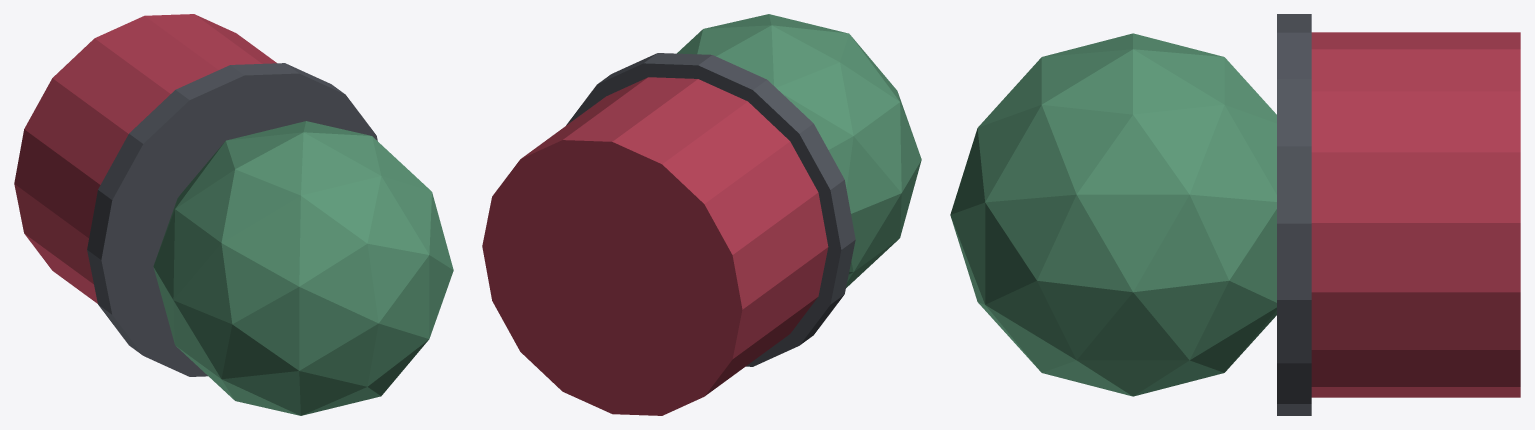
Rendered from planter_v01.glb.
3 renders of one model, left to right at view 1: azimuth 30°, elevation 25°; view 2: azimuth 150°, elevation 25°; view 3: azimuth 270°, elevation 25°, orthographic. The views are drawn at different scales.
Visible parts, largest first — view 1: sphere_2, cylinder_1, cylinder_0; view 2: cylinder_0, sphere_2, cylinder_1; view 3: sphere_2, cylinder_0, cylinder_1.
Boxes of the visible parts, left/top/right/bottom form: sphere_2: left=153, top=121, right=453, bottom=415; cylinder_1: left=87, top=63, right=377, bottom=376; cylinder_0: left=14, top=14, right=276, bottom=303; cylinder_0: left=482, top=77, right=828, bottom=415; sphere_2: left=677, top=14, right=921, bottom=287; cylinder_1: left=566, top=53, right=855, bottom=366; sphere_2: left=950, top=33, right=1276, bottom=396; cylinder_0: left=1311, top=32, right=1520, bottom=397; cylinder_1: left=1277, top=14, right=1311, bottom=415.
Bounding box in the file's own units: 0.924 × 0.924 × 1.31.
